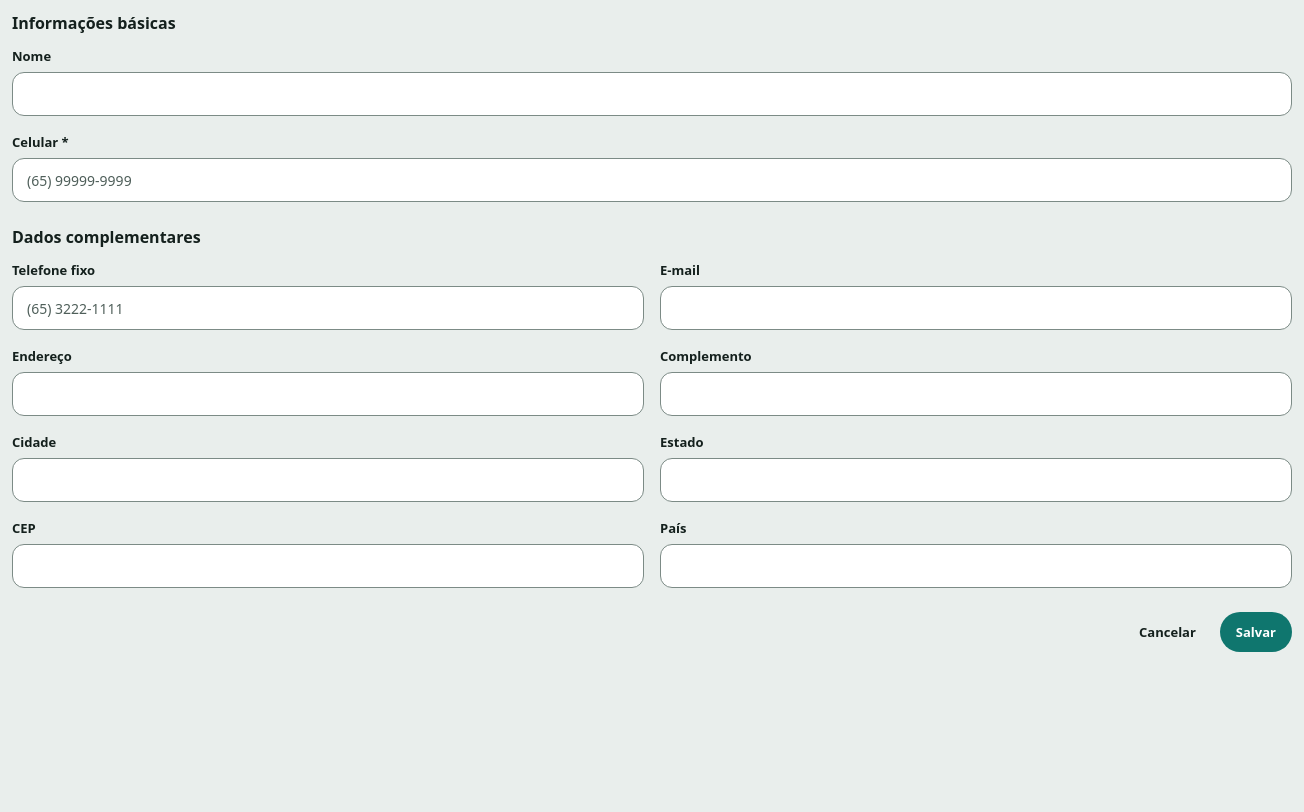
Test: ContactForm › rejects a celular without DDD
Type "99991234" into the field labelled "Celular *" at (652, 180), box [12, 158, 1292, 202]
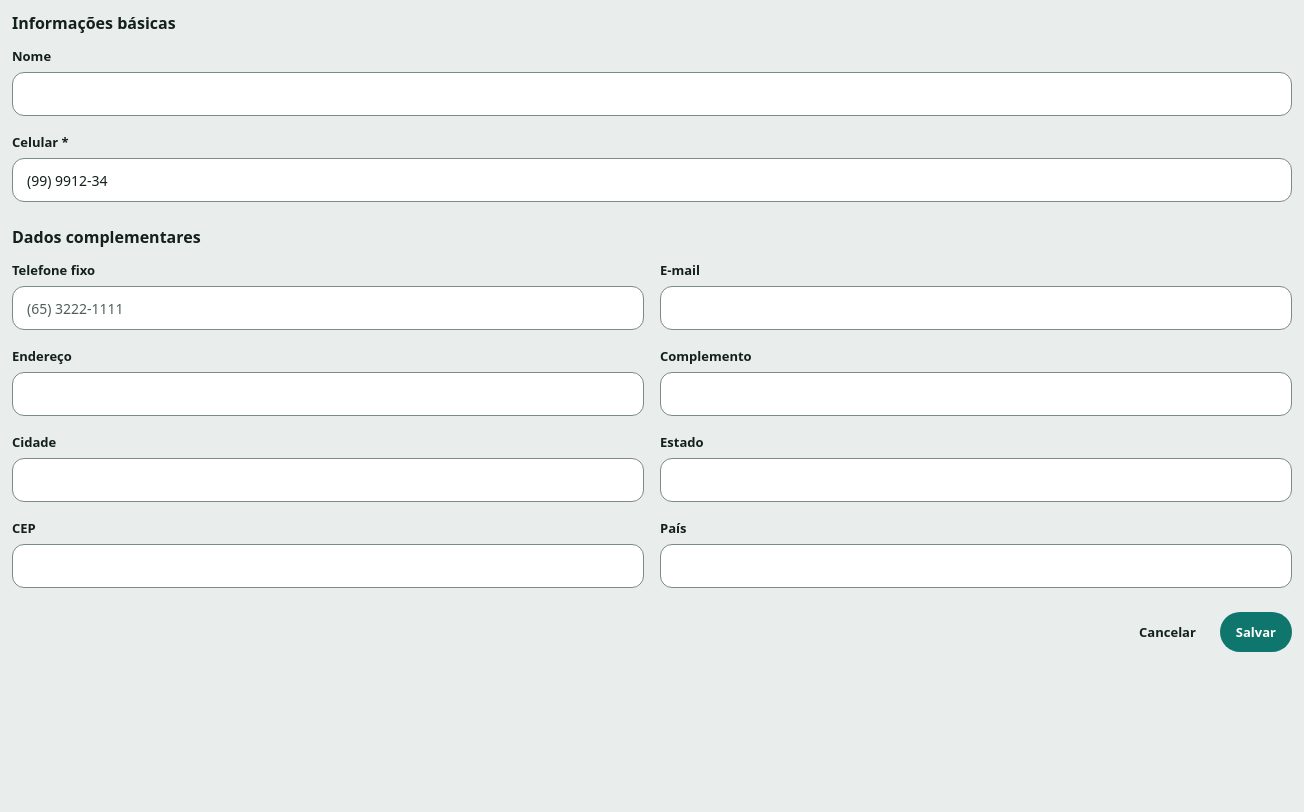
Click the button "Salvar" at (1256, 632), box [1220, 612, 1292, 652]
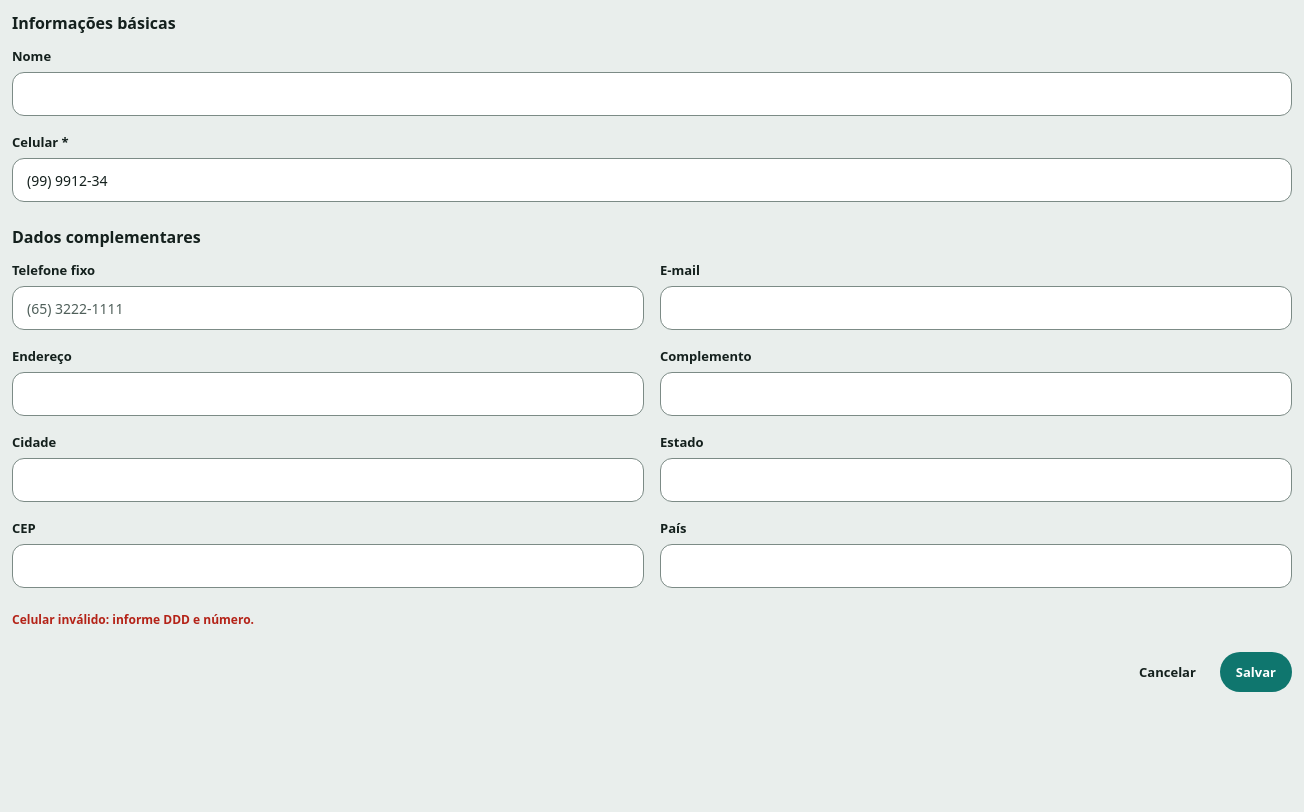
Expected: the message reads "Celular inválido: informe DDD e número.", [12, 611, 254, 628]
